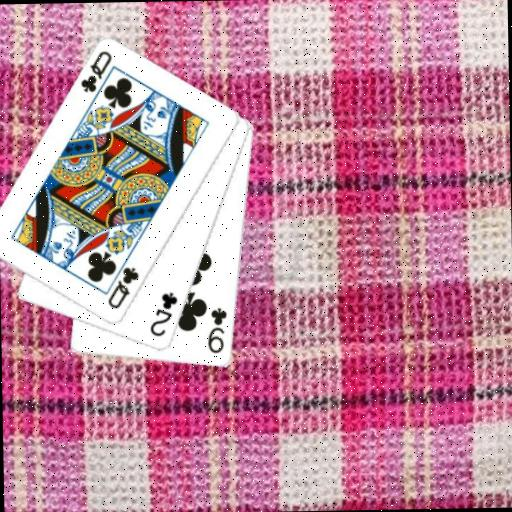2C: (147, 289, 180, 339)
9C: (205, 304, 230, 355)
QC: (77, 48, 115, 95), (104, 264, 141, 312)
